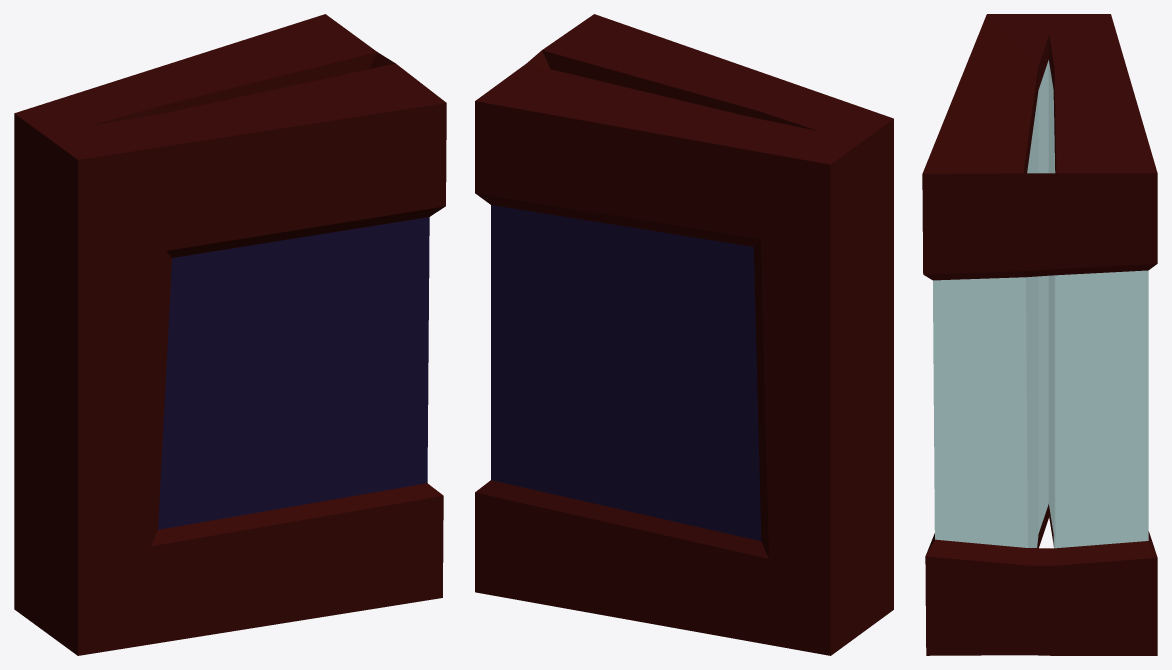
File: wizard_weapon.glb
The picture shows the model from 3 angles, left to right: view 1: azimuth 30°, elevation 25°; view 2: azimuth 150°, elevation 25°; view 3: azimuth 270°, elevation 25°; orthographic projection. The views are drawn at different scales.
Parts seen in each view (by area): view 1: Cube; view 2: Cube; view 3: Cube.
Part boxes in pixels (x1,y1,x2,y2): Cube: (14, 14, 446, 655); Cube: (475, 14, 893, 655); Cube: (922, 14, 1157, 655).
Bounding box in the file's own units: 0.4795 × 0.6765 × 0.2981.
Materials: 1 (1 with a texture image).
